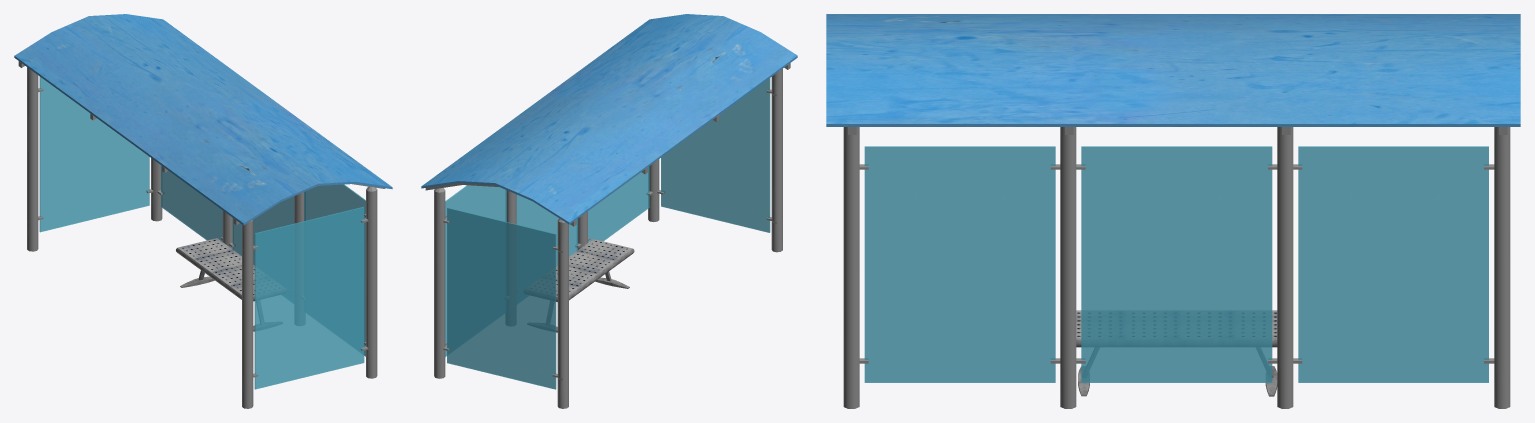
The model's file is BusStop.FBX.
3 renders of one model, left to right at view 1: azimuth 30°, elevation 25°; view 2: azimuth 150°, elevation 25°; view 3: azimuth 270°, elevation 25°, orthographic. The views are drawn at different scales.
Parts seen in each view (by area): view 1: cam; view 2: cam; view 3: cam.
Part boxes in pixels (x1=…): cam: x1=14, y1=14, x2=392, y2=408; cam: x1=421, y1=14, x2=797, y2=408; cam: x1=826, y1=14, x2=1520, y2=408.
Bounding box in the file's own units: 59.08 × 80.96 × 157.
Materials: 5 (5 with a texture image).
